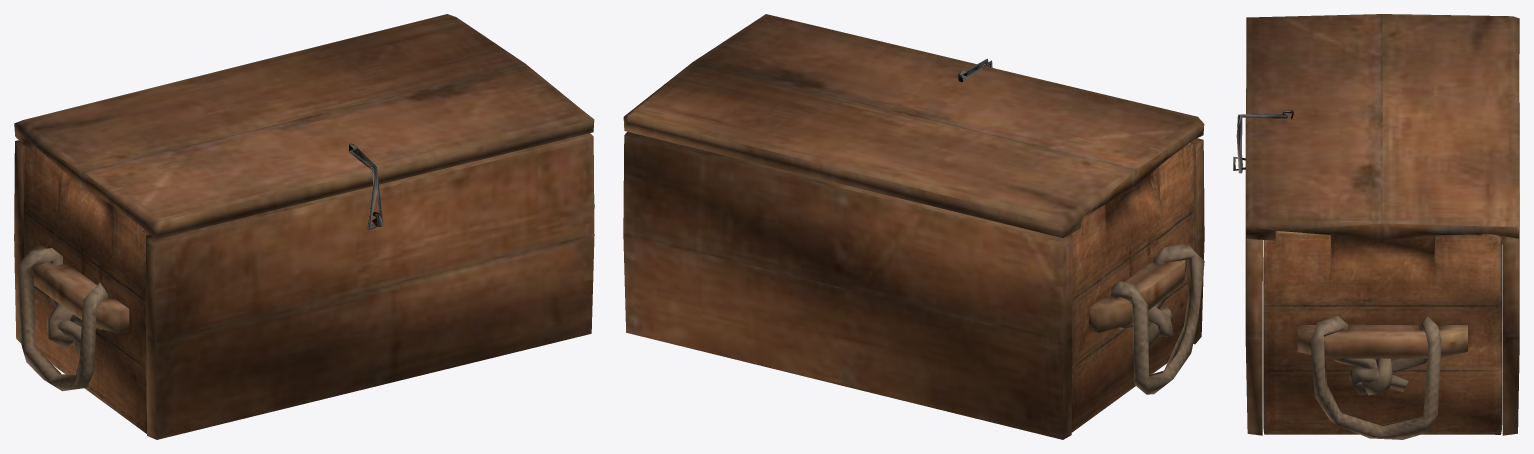
Rendered from prop_crate_01.glb.
3 renders of one model, left to right at view 1: azimuth 30°, elevation 25°; view 2: azimuth 150°, elevation 25°; view 3: azimuth 270°, elevation 25°, orthographic. The views are drawn at different scales.
Visible parts, largest first — view 1: prop_crate_01; view 2: prop_crate_01; view 3: prop_crate_01.
Part boxes in pixels (<box>): prop_crate_01: <box>14,14,594,439</box>; prop_crate_01: <box>623,14,1204,439</box>; prop_crate_01: <box>1233,14,1519,439</box>.
Size of the model in its own units: 0.8202 by 0.3462 by 0.4061.
1 material, 1 textured.
